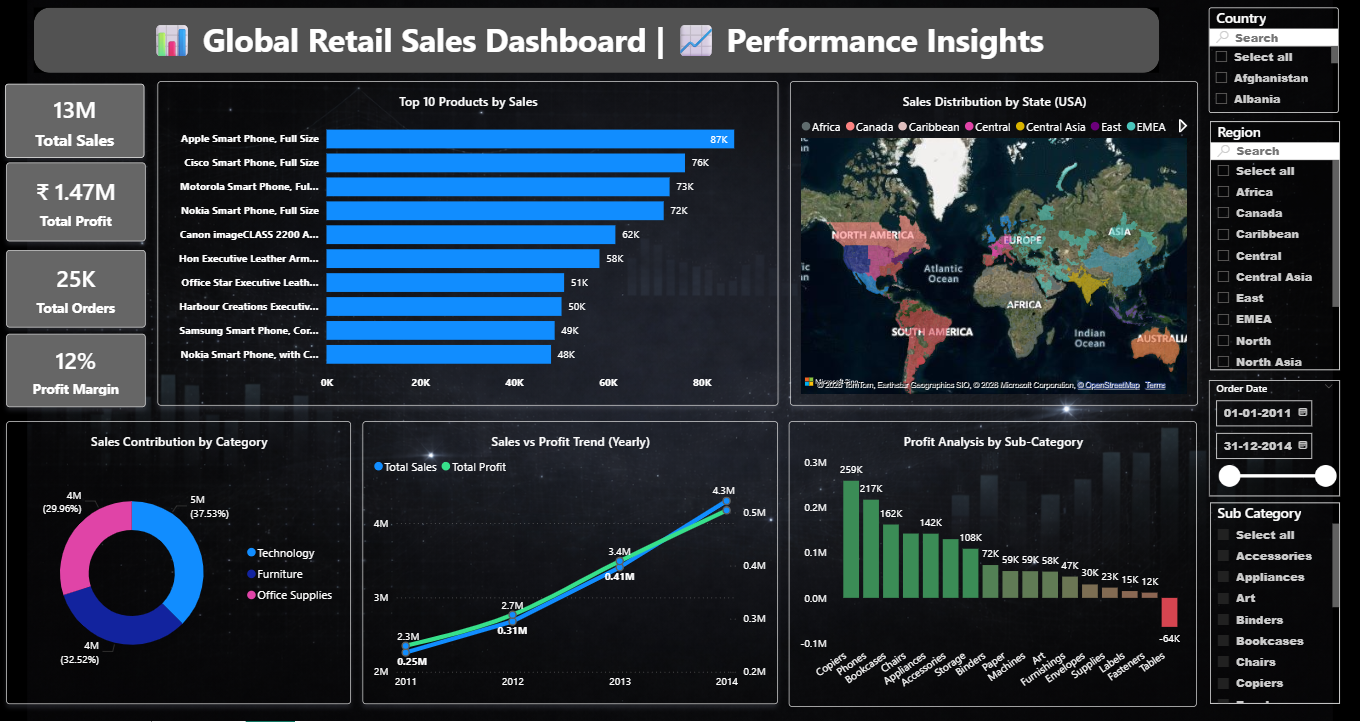

The dashboard page shown, as its layout file describes it:
{"tool":"powerbi","page":{"name":"Page 1","canvas":[1600,850],"ordinal":0},"visuals":[{"type":"shape","box":[40,8.6,1324.3,77.1],"z":0},{"type":"card","fields":{"Values":["SuperStoreOrders.Total Sales"]},"box":[6.3,97.8,164.3,87.1],"z":1000},{"type":"card","fields":{"Values":["SuperStoreOrders.Total Profit"]},"box":[7.6,191.6,163.8,92.5],"z":2000},{"type":"card","fields":{"Values":["SuperStoreOrders.Total Orders"]},"box":[7.6,294.1,163.8,91.2],"z":3000},{"type":"card","fields":{"Values":["SuperStoreOrders.Profit Margin"]},"box":[7.6,392.8,163.8,86.2],"z":4000},{"type":"lineChart","title":"Sales vs Profit Trend (Yearly)","fields":{"Category":["SuperStoreOrders.order Date.Variation.Date Hierarchy.Year","SuperStoreOrders.order Date.Variation.Date Hierarchy.Month"],"Y":["SuperStoreOrders.Total Sales"],"Y2":["SuperStoreOrders.Total Profit"]},"box":[427.1,495.7,488.6,332.9],"z":5000},{"type":"filledMap","title":"Sales Distribution by State (USA)","fields":{"Series":["SuperStoreOrders.Region"],"Category":["SuperStoreOrders.State"]},"box":[930,95.7,480,381.4],"z":6000},{"type":"donutChart","title":"Sales Contribution by Category","fields":{"Category":["SuperStoreOrders.Category"],"Y":["SuperStoreOrders.Total Sales"]},"box":[7.1,495.7,405.7,332.9],"z":7000},{"type":"barChart","title":"Top 10 Products by Sales","fields":{"Category":["SuperStoreOrders.Product Name"],"Y":["SuperStoreOrders.Total Sales"]},"box":[185.7,95.7,730,381.4],"z":8000},{"type":"columnChart","title":"Profit Analysis by Sub-Category","fields":{"Category":["SuperStoreOrders.Sub Category"],"Y":["SuperStoreOrders.Total Profit"]},"box":[928.6,495.7,480,335.7],"z":9000},{"type":"slicer","fields":{"Values":["SuperStoreOrders.Sub Category"]},"box":[1423.3,591.4,152.9,237.1],"z":10000},{"type":"slicer","fields":{"Values":["SuperStoreOrders.Region"]},"box":[1423.3,142.9,152.9,292.9],"z":11000},{"type":"slicer","fields":{"Values":["SuperStoreOrders.Country"]},"box":[1421.9,8.6,152.9,124.3],"z":12000},{"type":"slicer","fields":{"Values":["SuperStoreOrders.order Date"]},"box":[1421.9,447.1,154.3,137.1],"z":13000},{"type":"textbox","box":[160,15.7,1084.3,61.4],"z":15000}]}

Visuals, with their boxes in screenshot pixels (x1, y1, x2, y2), scaled from the page's 1600x850 canvas onto the 1360x722 screenshot:
shape: detection(34, 7, 1160, 73)
card - SuperStoreOrders.Total Sales: detection(5, 83, 145, 157)
card - SuperStoreOrders.Total Profit: detection(6, 163, 146, 241)
card - SuperStoreOrders.Total Orders: detection(6, 250, 146, 327)
card - SuperStoreOrders.Profit Margin: detection(6, 334, 146, 407)
"Sales vs Profit Trend (Yearly)" lineChart: detection(363, 421, 778, 704)
"Sales Distribution by State (USA)" filledMap: detection(790, 81, 1198, 405)
"Sales Contribution by Category" donutChart: detection(6, 421, 351, 704)
"Top 10 Products by Sales" barChart: detection(158, 81, 778, 405)
"Profit Analysis by Sub-Category" columnChart: detection(789, 421, 1197, 706)
slicer - SuperStoreOrders.Sub Category: detection(1210, 502, 1340, 704)
slicer - SuperStoreOrders.Region: detection(1210, 121, 1340, 370)
slicer - SuperStoreOrders.Country: detection(1209, 7, 1339, 113)
slicer - SuperStoreOrders.order Date: detection(1209, 380, 1340, 496)
textbox: detection(136, 13, 1058, 65)
